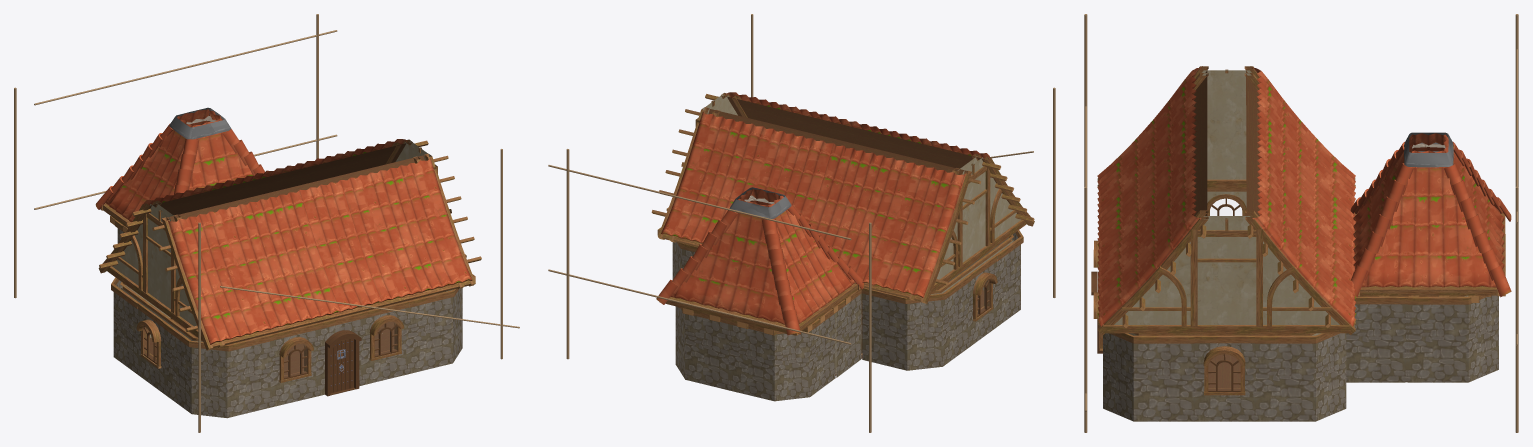
The model's file is Building2Whole_P3.glb.
3 views of the same model, side by side, from view 1: azimuth 30°, elevation 25°; view 2: azimuth 150°, elevation 25°; view 3: azimuth 270°, elevation 25° (orthographic). The views are drawn at different scales.
Parts seen in each view (by area): view 1: Building2Whole_P3; view 2: Building2Whole_P3; view 3: Building2Whole_P3.
Boxes of the visible parts, bbox=[...] form: Building2Whole_P3: bbox=[14, 14, 519, 432]; Building2Whole_P3: bbox=[548, 14, 1055, 432]; Building2Whole_P3: bbox=[1084, 14, 1518, 432].
Bounding box in the file's own units: 14.31 × 8.87 × 14.25.
Materials: 8 (6 with a texture image).
